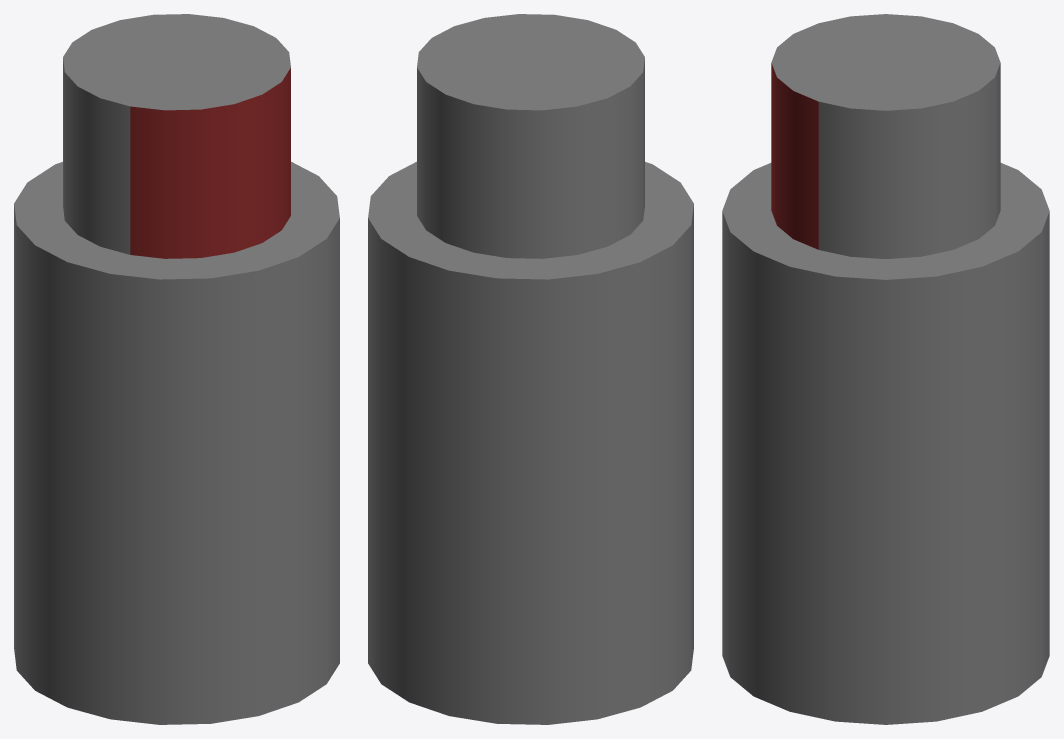
File: Monster.fbx
The picture shows the model from 3 angles, left to right: view 1: azimuth 30°, elevation 25°; view 2: azimuth 150°, elevation 25°; view 3: azimuth 270°, elevation 25°; orthographic projection.
Visible parts, largest first — view 1: MonsterBody, MonsterHead; view 2: MonsterBody, MonsterHead; view 3: MonsterBody, MonsterHead.
Part boxes in pixels (x1=…): MonsterBody: x1=14, y1=161, x2=339, y2=724; MonsterHead: x1=63, y1=14, x2=290, y2=258; MonsterBody: x1=368, y1=161, x2=693, y2=724; MonsterHead: x1=417, y1=14, x2=644, y2=258; MonsterBody: x1=722, y1=163, x2=1049, y2=724; MonsterHead: x1=771, y1=14, x2=1000, y2=258.
Bounding box in the file's own units: 100 × 200 × 100.
